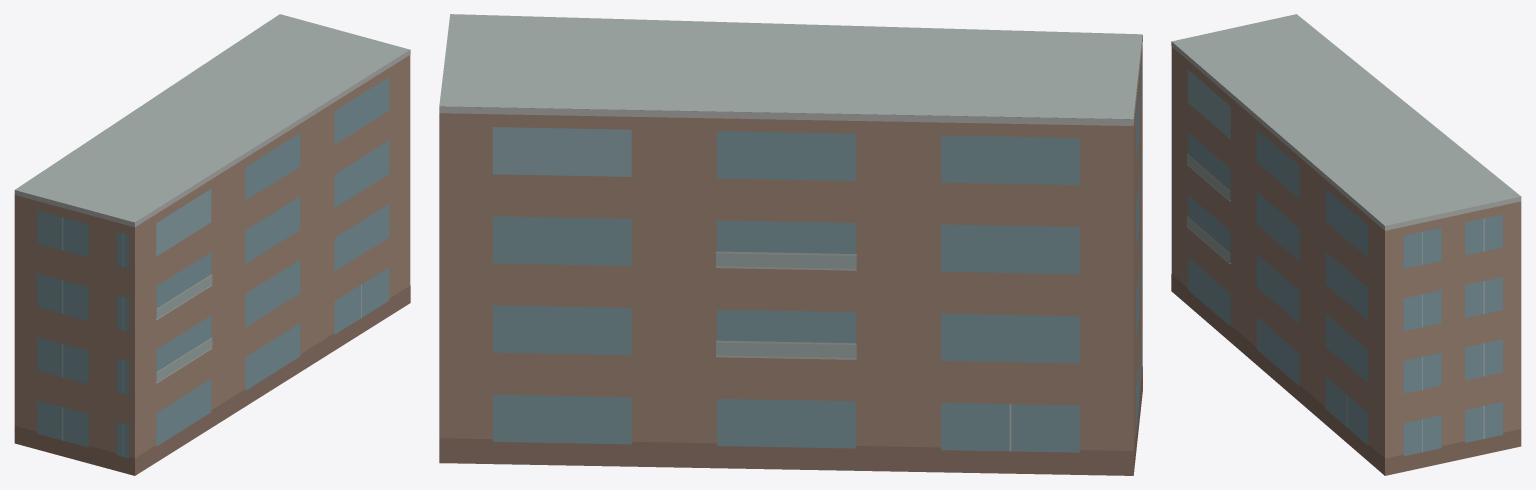
File: survey-upis-32822707.glb
The picture shows the model from 3 angles, left to right: view 1: azimuth 30°, elevation 25°; view 2: azimuth 150°, elevation 25°; view 3: azimuth 270°, elevation 25°; orthographic projection. The views are drawn at different scales.
Visible parts, largest first — view 1: survey-upis-32822707.tmp; view 2: survey-upis-32822707.tmp; view 3: survey-upis-32822707.tmp.
Boxes of the visible parts, bbox=[...] form: survey-upis-32822707.tmp: bbox=[14, 14, 410, 475]; survey-upis-32822707.tmp: bbox=[439, 14, 1142, 475]; survey-upis-32822707.tmp: bbox=[1171, 14, 1521, 475].
Bounding box in the file's own units: 22.94 × 12.6 × 16.
